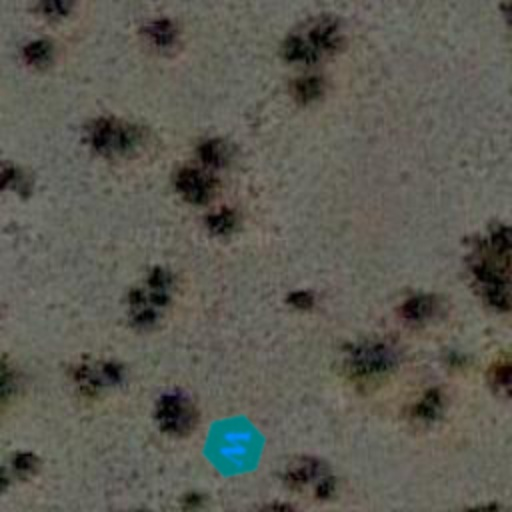hexagon: (192, 404, 276, 488)
